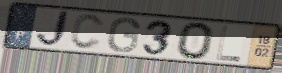3: (140, 18, 179, 58)
C: (68, 13, 106, 52)
G: (105, 16, 142, 54)
J: (34, 9, 72, 49)
L: (215, 25, 243, 63)
O: (175, 20, 216, 61)
